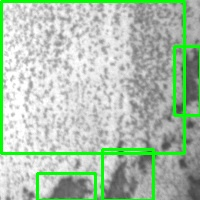patches: (102, 149, 153, 200), (174, 46, 200, 115), (37, 173, 95, 200)
pitted_surface: (1, 1, 184, 153)
